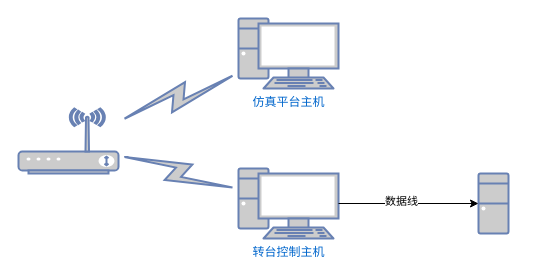
Image size: 534x276. Some labels were removed from this diagram. The box of each missing label's shape, as (x1, y1, x2, y2) in pixels:
三轴转台: (477, 172, 509, 234)
局域网路由器: (17, 107, 119, 174)
